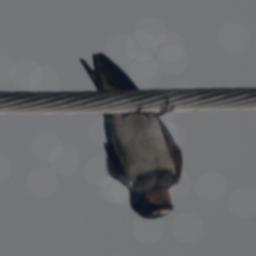Swallow: (78, 52, 183, 219)
